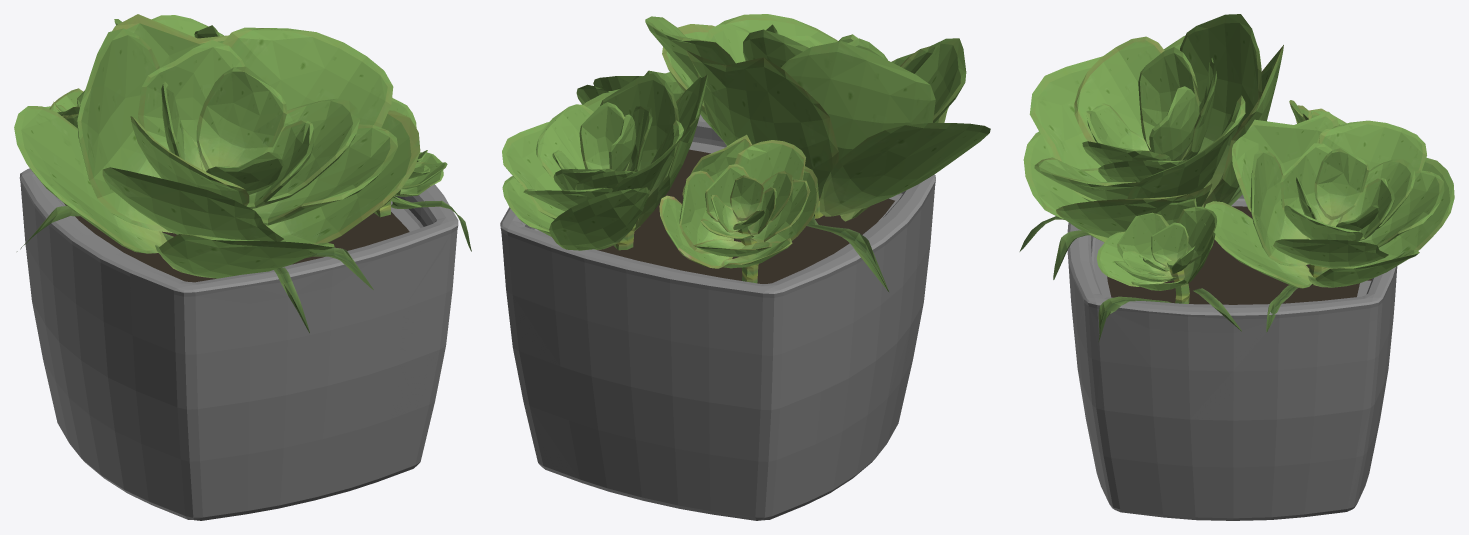
Rendered from sh-bsby-succulent-plant.glb.
3 renders of one model, left to right at view 1: azimuth 30°, elevation 25°; view 2: azimuth 150°, elevation 25°; view 3: azimuth 270°, elevation 25°, orthographic. The views are drawn at different scales.
Visible parts, largest first — view 1: Cube_Cube.001, Plane.089_Plane.103, Plane.031_Plane.046; view 2: Cube_Cube.001, Plane.089_Plane.103, Plane.031_Plane.046, Cube.005_Cube.006; view 3: Plane.089_Plane.103, Cube_Cube.001, Plane.031_Plane.046, Cube.005_Cube.006.
Part boxes in pixels (box(x1,y1,x2,y2)): Cube_Cube.001: box(19, 168, 458, 520); Plane.089_Plane.103: box(14, 14, 447, 278); Plane.031_Plane.046: box(17, 200, 471, 332); Cube_Cube.001: box(500, 114, 935, 520); Plane.089_Plane.103: box(502, 14, 990, 268); Plane.031_Plane.046: box(807, 214, 888, 291); Cube.005_Cube.006: box(613, 201, 823, 283); Plane.089_Plane.103: box(1023, 14, 1454, 290); Cube_Cube.001: box(1067, 194, 1397, 520); Plane.031_Plane.046: box(1019, 186, 1298, 341); Cube.005_Cube.006: box(1167, 261, 1330, 303).
Size of the model in its own units: 1 by 1 by 1.
Materials: 5 (3 with a texture image).
